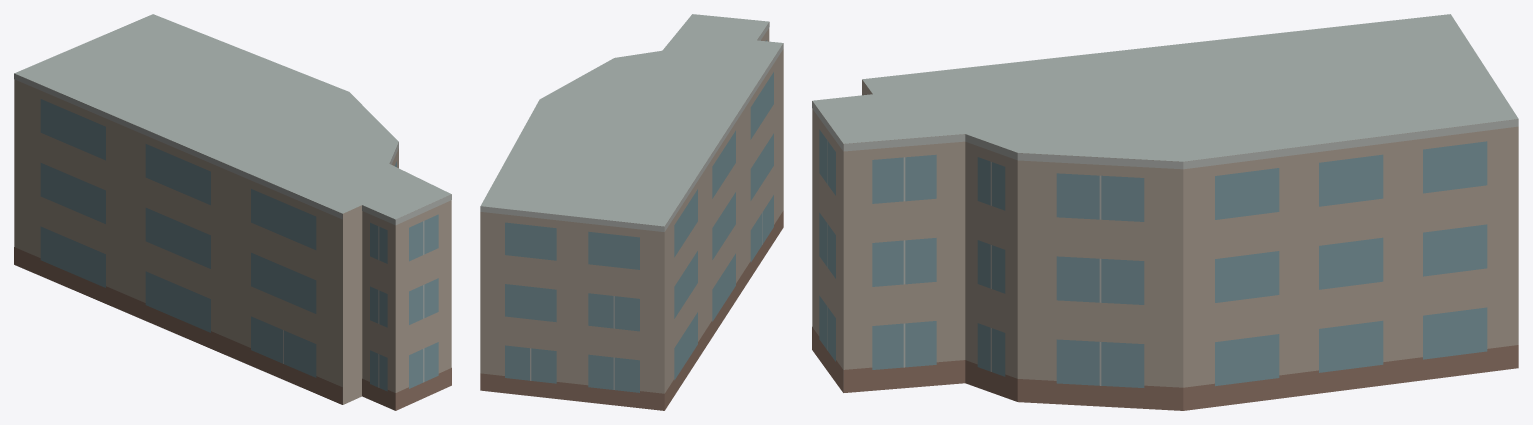
Rendered from survey-upis-32768635.glb.
3 views of the same model, side by side, from view 1: azimuth 30°, elevation 25°; view 2: azimuth 150°, elevation 25°; view 3: azimuth 270°, elevation 25° (orthographic). The views are drawn at different scales.
Parts seen in each view (by area): view 1: survey-upis-32768635.tmp; view 2: survey-upis-32768635.tmp; view 3: survey-upis-32768635.tmp.
Boxes of the visible parts, box(x1,y1,x2,y2) form: survey-upis-32768635.tmp: box(14, 14, 451, 410); survey-upis-32768635.tmp: box(480, 14, 783, 410); survey-upis-32768635.tmp: box(812, 14, 1518, 410).
Size of the model in its own units: 10.13 by 7.96 by 20.47.
